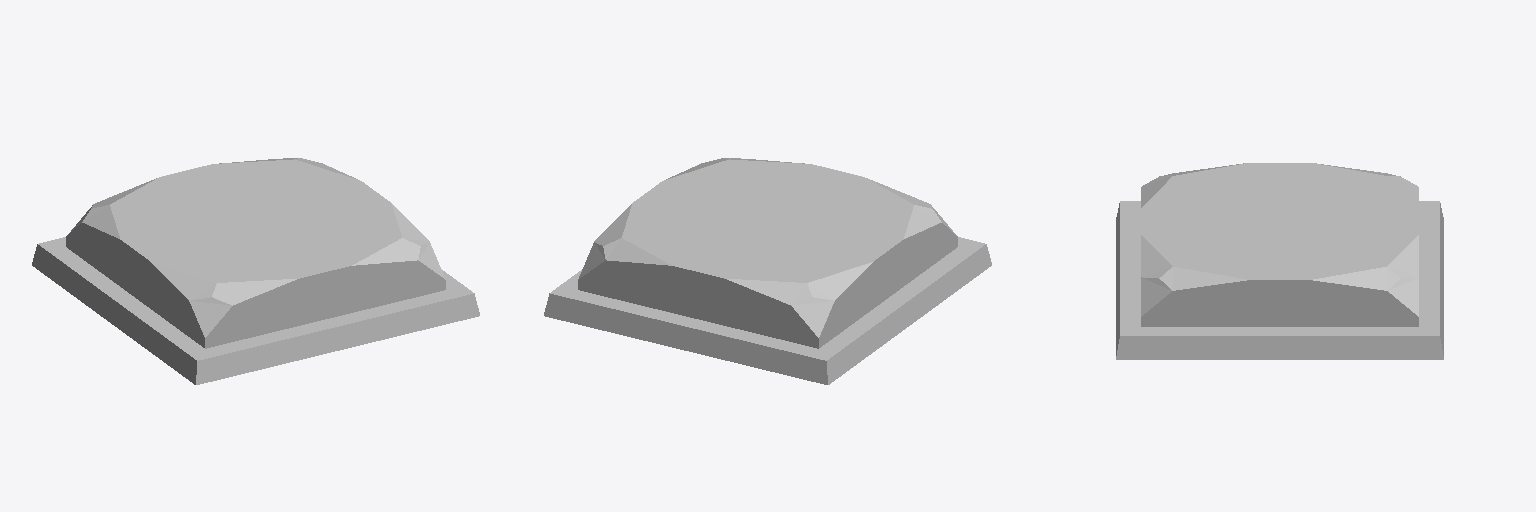
Rendered from map_tile.obj.
3 views of the same model, side by side, from view 1: azimuth 30°, elevation 25°; view 2: azimuth 150°, elevation 25°; view 3: azimuth 270°, elevation 25° (orthographic).
Parts seen in each view (by area): view 1: Cube.024; view 2: Cube.024; view 3: Cube.024.
Part boxes in pixels (left/top/right/bottom): Cube.024: left=32, top=158, right=479, bottom=384; Cube.024: left=544, top=158, right=991, bottom=384; Cube.024: left=1116, top=163, right=1443, bottom=359.
Bounding box in the file's own units: 1.42 × 0.3305 × 1.42.